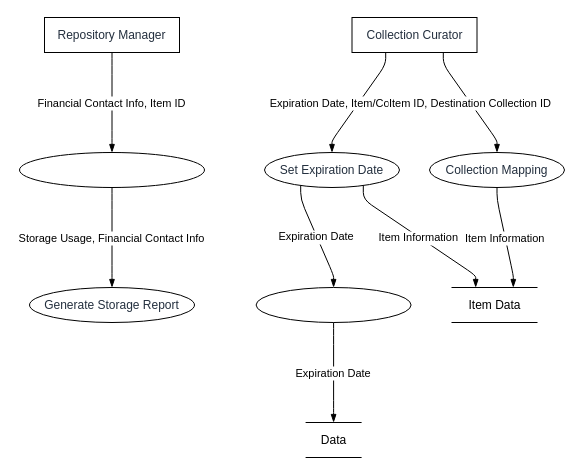
Image size: 582x475. Some labels were removed from this diagram. Each missing label, with the centre of its shape:
Display Expiration Date: pixel 333 304
Track Financial Responsibility: pixel 111 170
